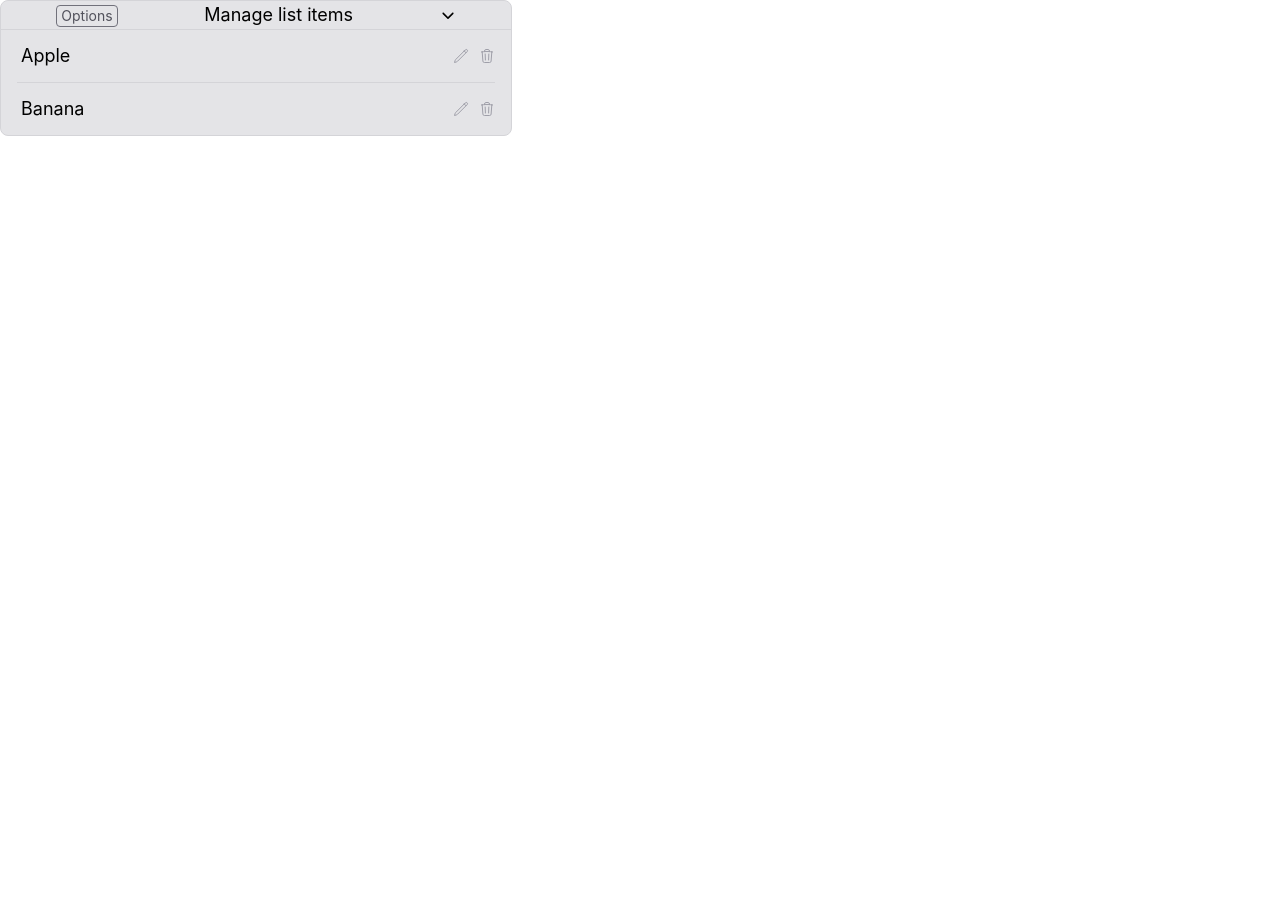
Test: ListItems › confirming an edit updates the label, preserving order and id
The image size is (1280, 900).
Click the button named "edit apple".
click(461, 56)  # box [453,48,469,64]
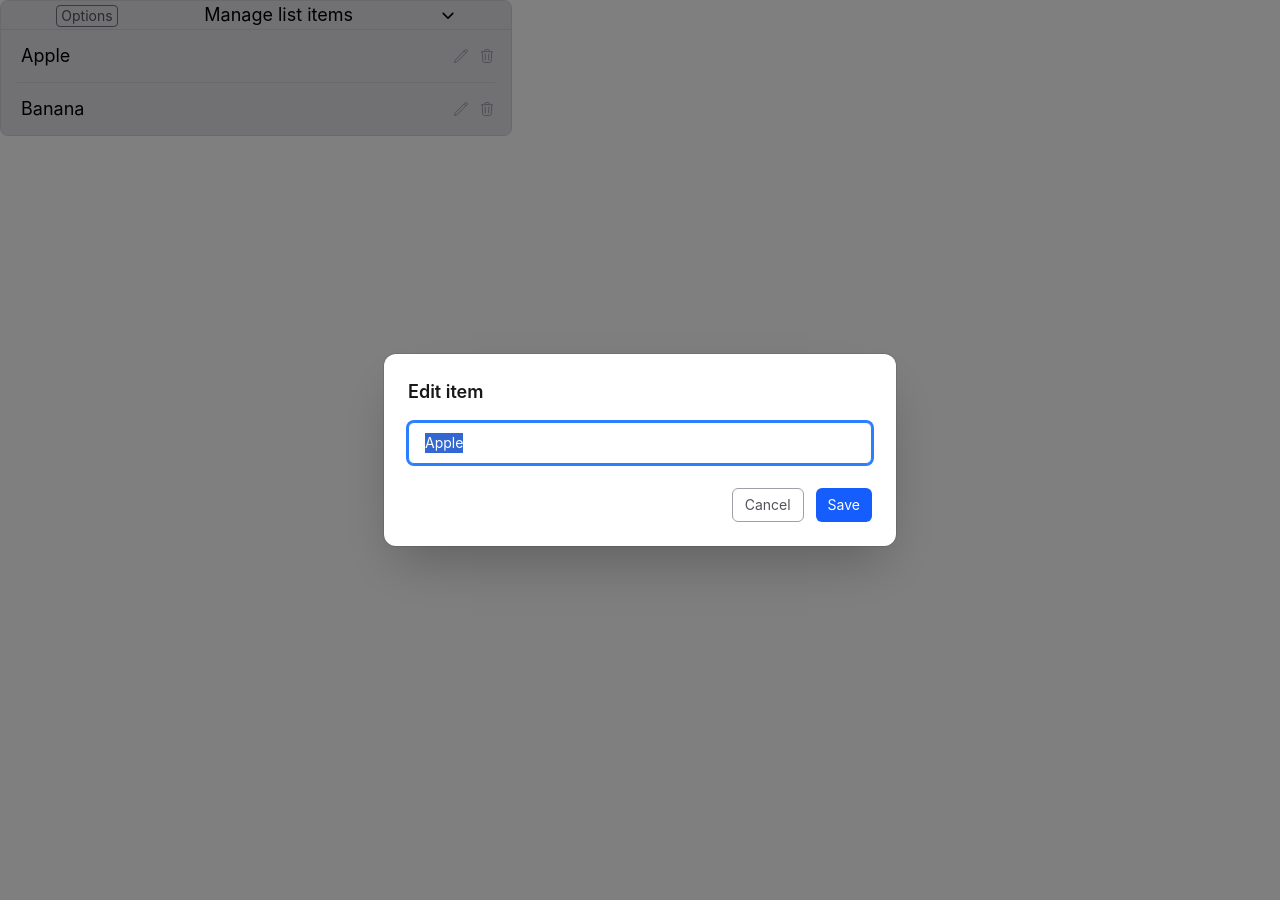
Replace the text in the field named "Edit item" with "Apricot" at (640, 443), box [408,422,872,464]
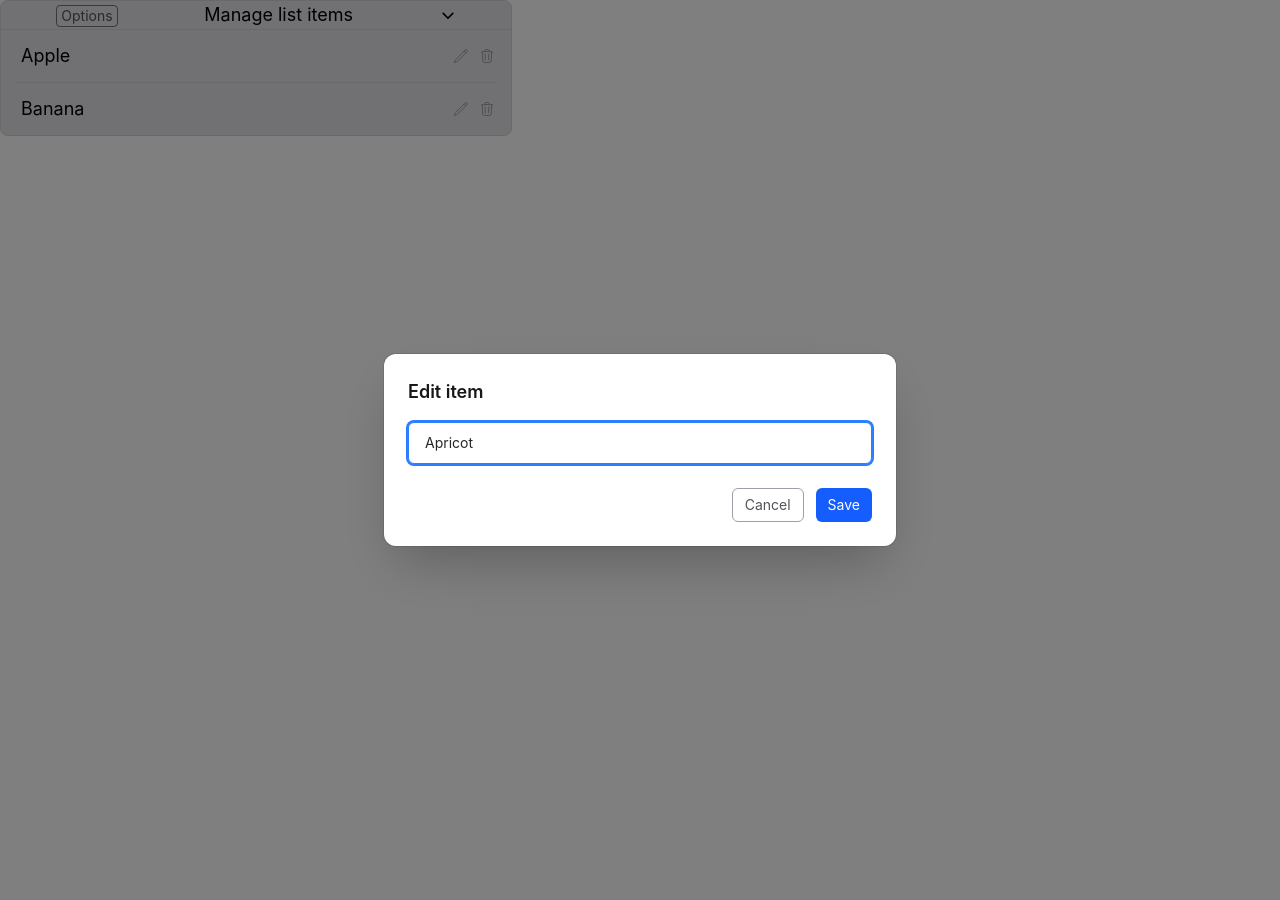
Click the button "Save".
click(844, 505)  # box [816,488,872,522]
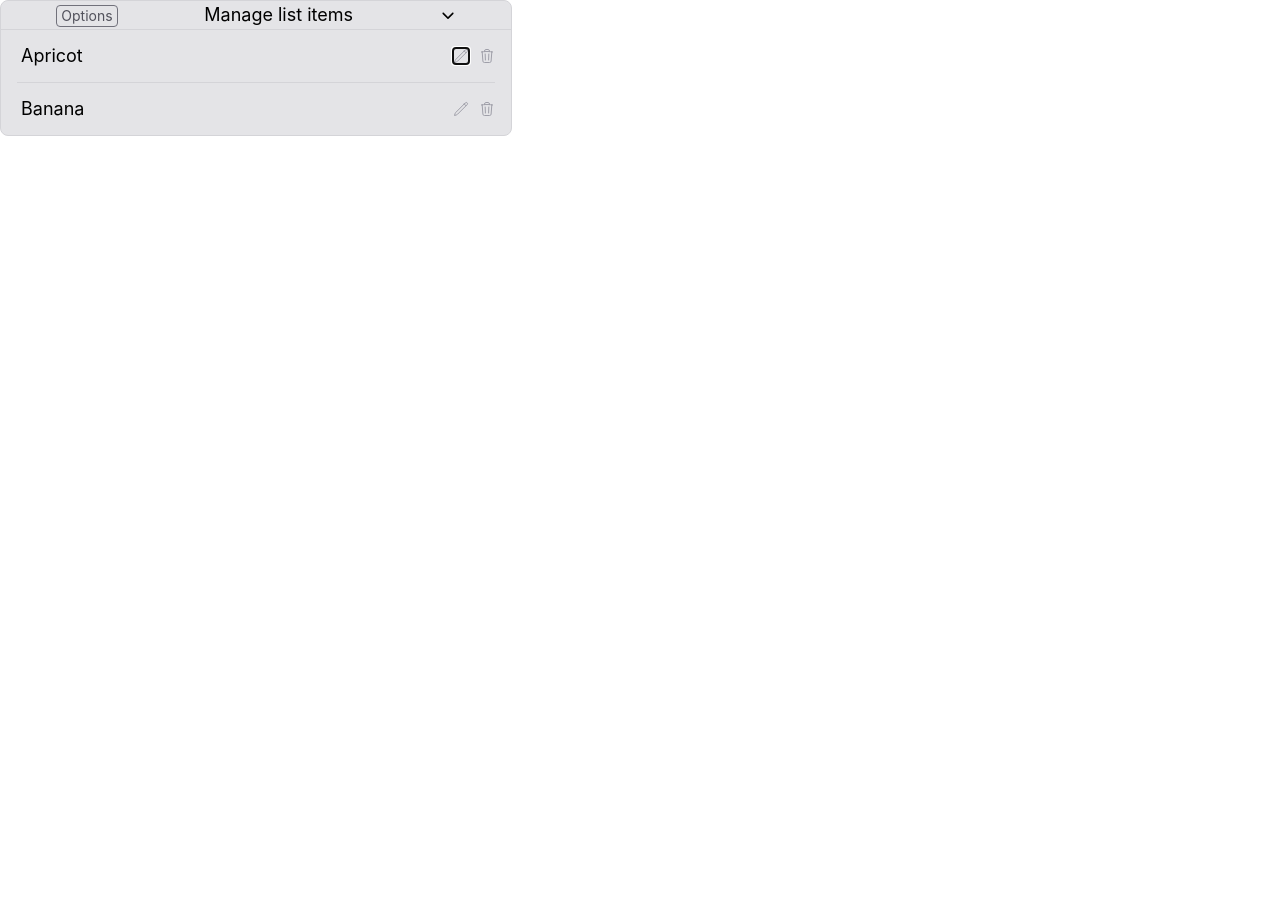
Now the text "Apricot" is shown, box [21,45,83,66]
Now the text "Apple" is gone
